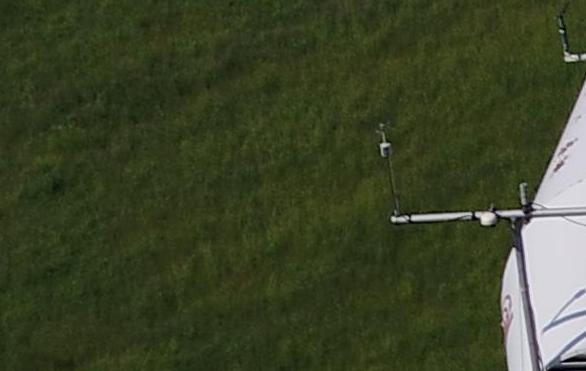damage: (553, 137, 579, 161), (549, 155, 571, 178), (573, 114, 582, 122)
